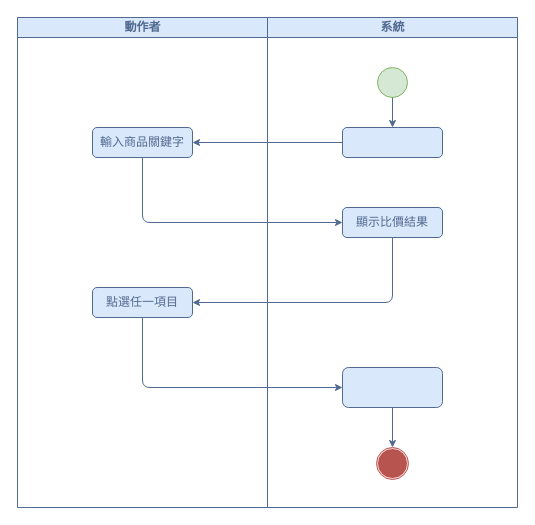
This 535x525 diagram has some shape labels left out. Each missing label, with the centre of its shape:
"顯示比價畫面" belongs at (392,142).
"顯示該商品的 詳細資訊" belongs at (392,387).
